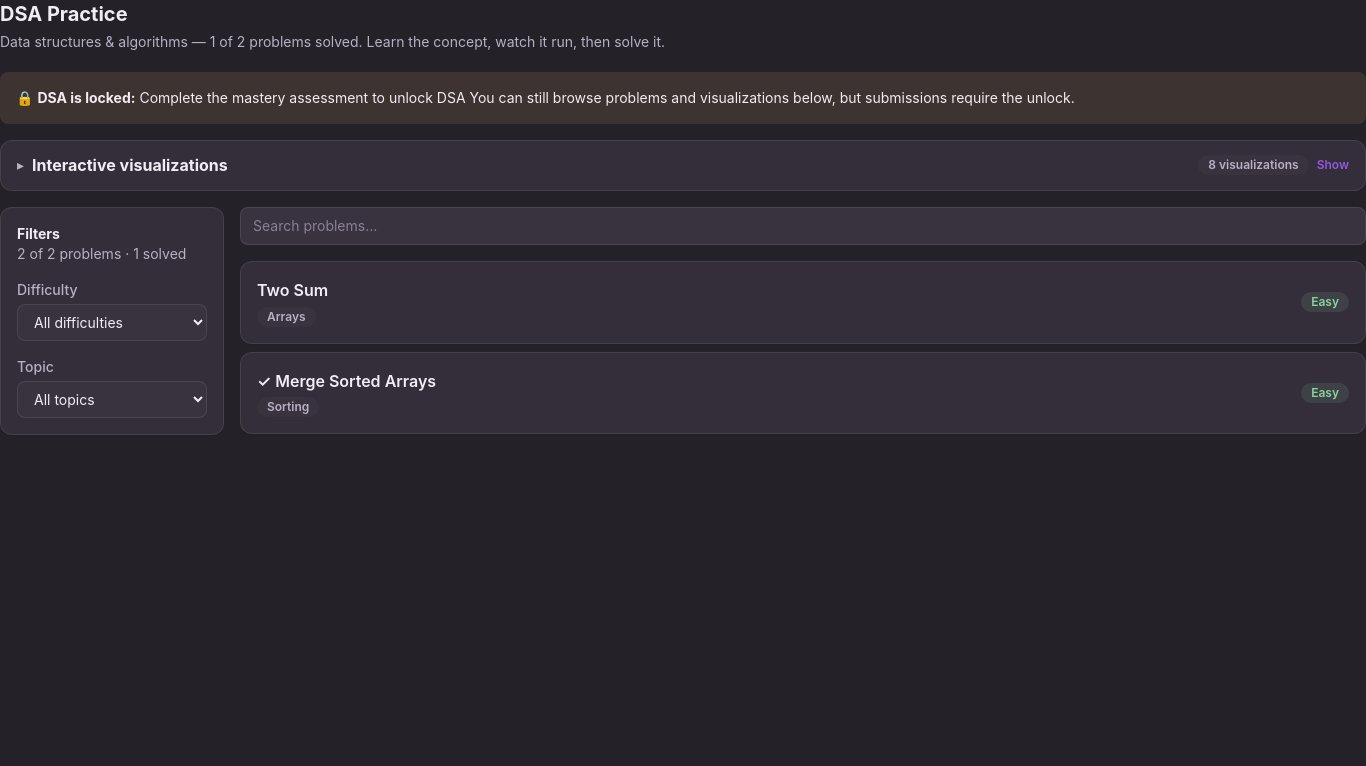
Test: DsaListPage › keeps all visualizations collapsed behind one panel by default
Expected: the text "Two Sum" is shown, [257,280,328,300]
Expected: the text "merge sort visualization" is not shown
Click the button "▸ Interactive visualizations 8 visualizations Show" at (130, 165), box [1,141,1365,190]
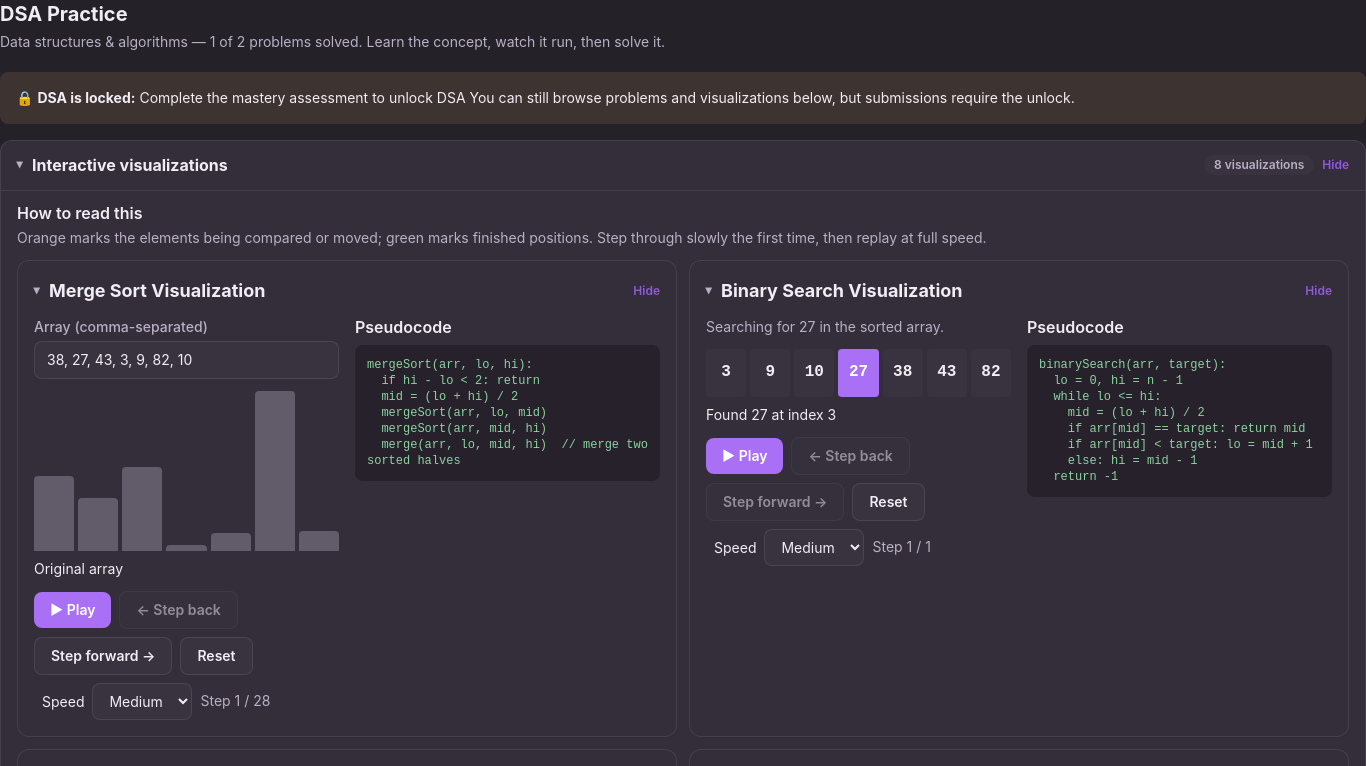
Result: the heading "merge sort visualization" is shown at [49,280,265,301]
